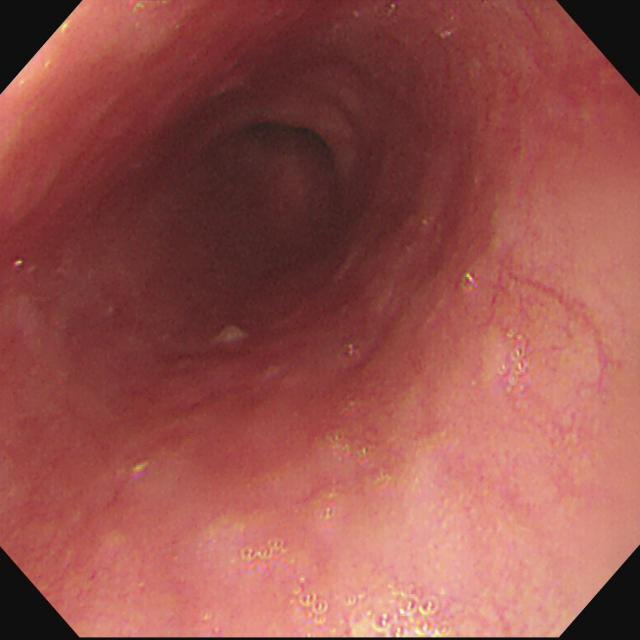E: (242, 109, 349, 174)
J: (210, 322, 249, 347)
T: (371, 597, 453, 640), (500, 329, 525, 386), (299, 591, 328, 626), (242, 538, 283, 562)
